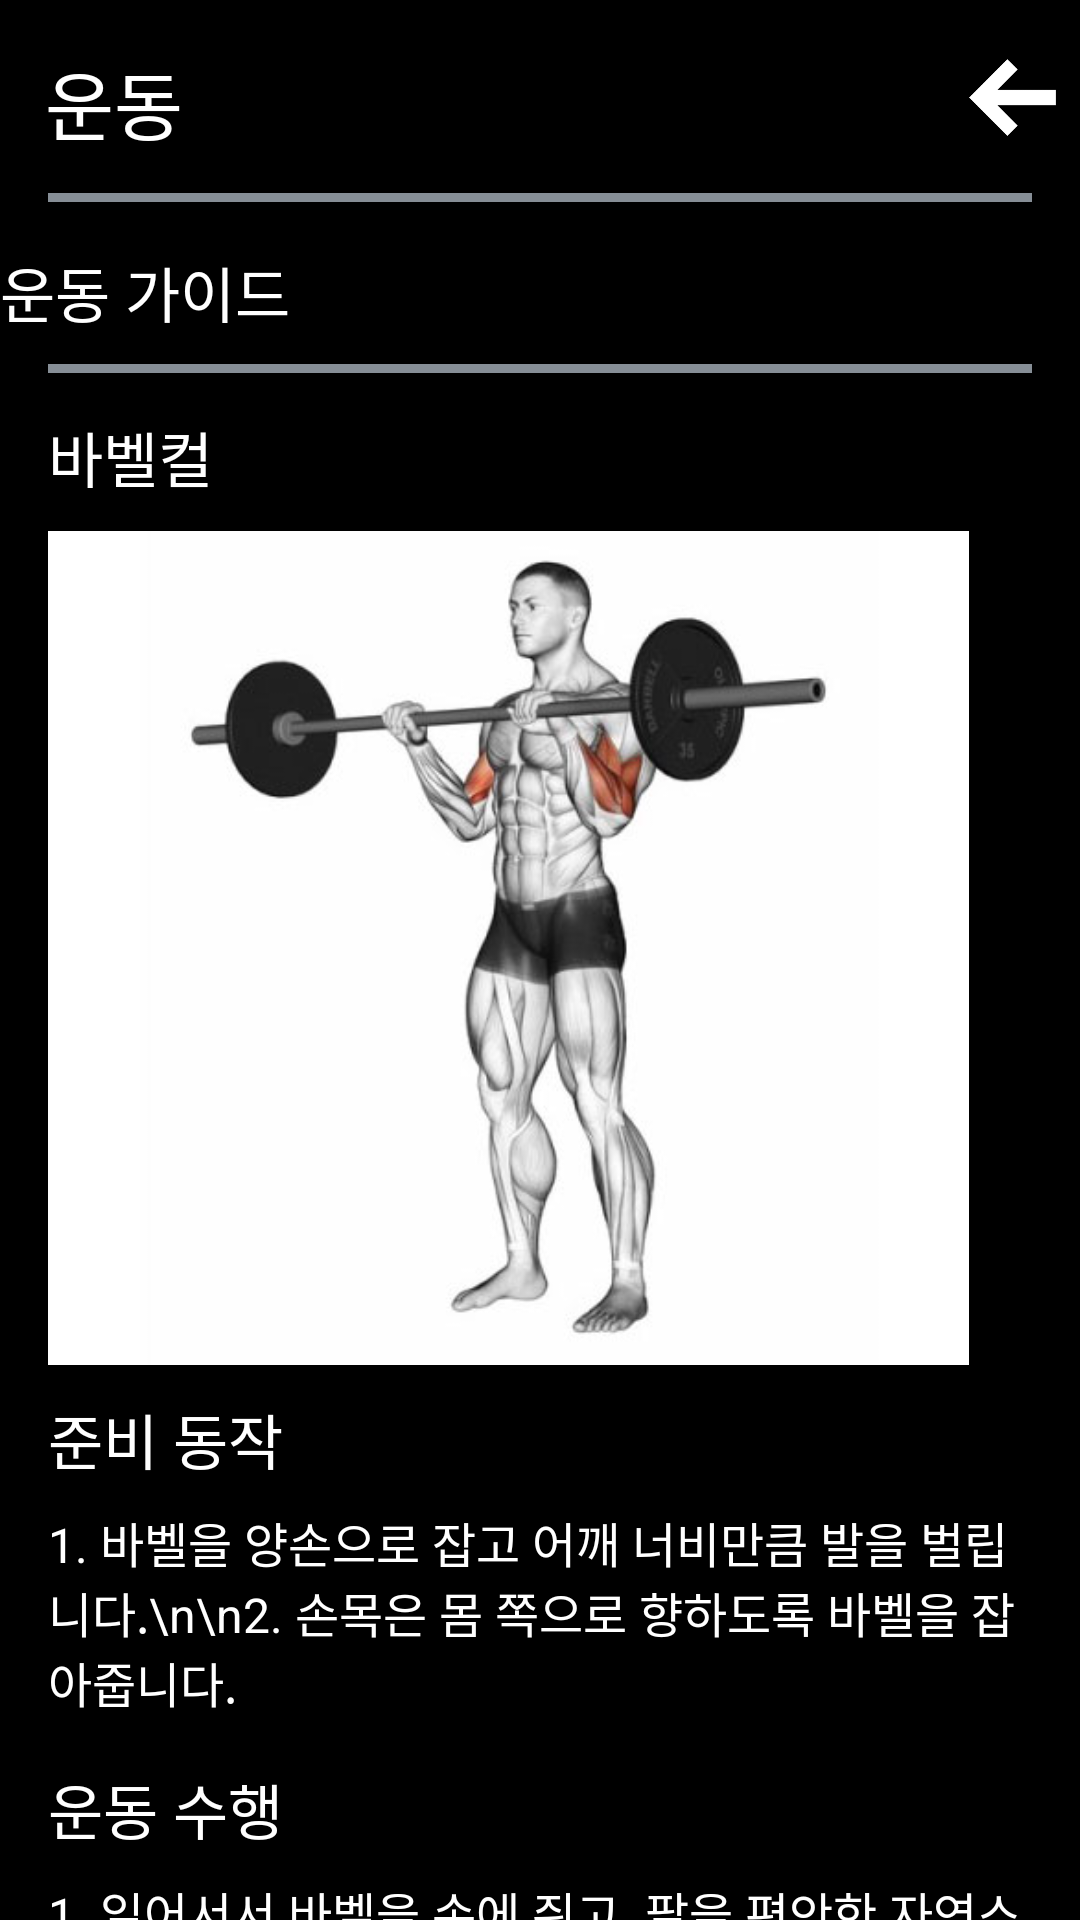

Icons on this 1080x1920 Android screen, each with the point to tap as (x,y):
leftarrow: (1012,97)
